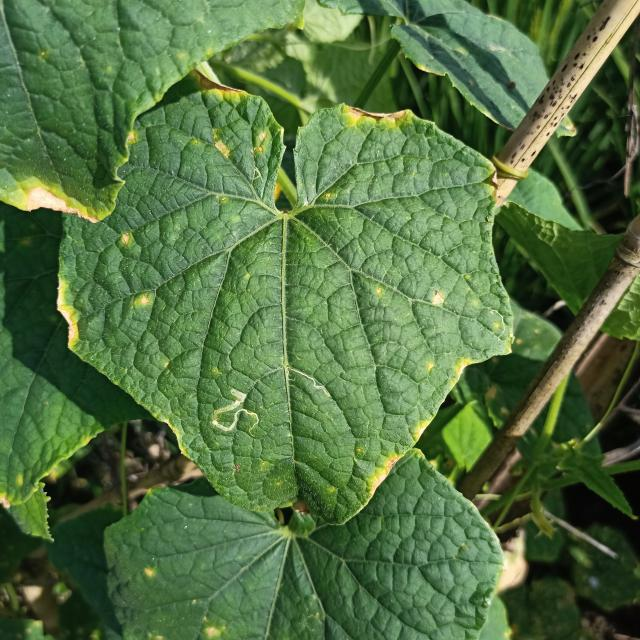disease_cucumber: (195, 82, 271, 162), (425, 348, 475, 386), (132, 295, 156, 312), (121, 129, 141, 148), (432, 292, 451, 310), (120, 230, 134, 248)
